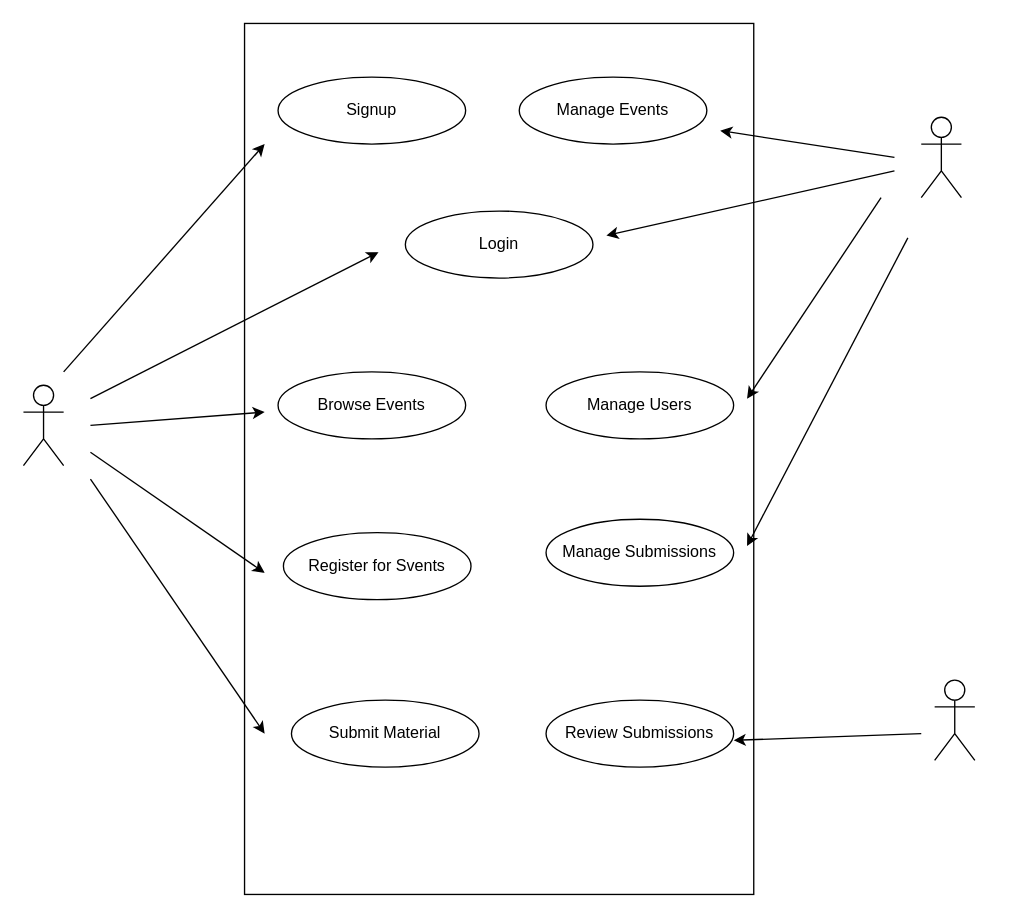
Image size: 1012x918. Some labels were removed from this diagram. Here are the shapes that lost their labels. From the top down, the centre of each, then its label:
the point at 940,157: Administrator
the point at 43,425: User
the point at 954,719: Reviewer
